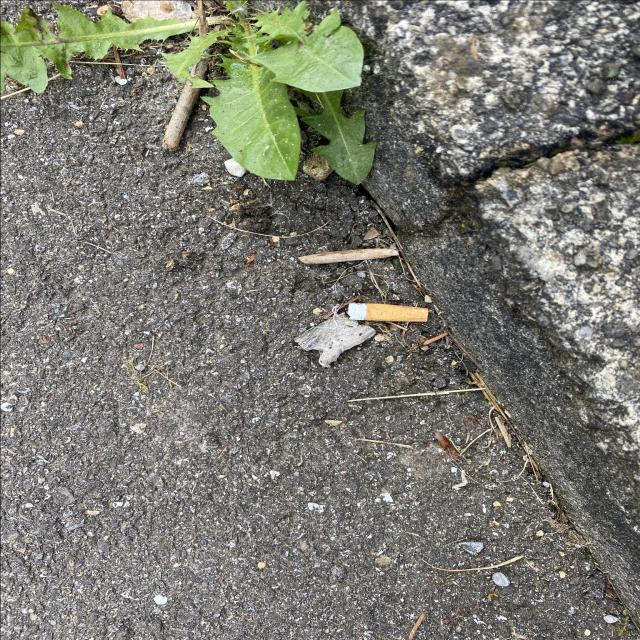other waste: (347, 302, 429, 322)
